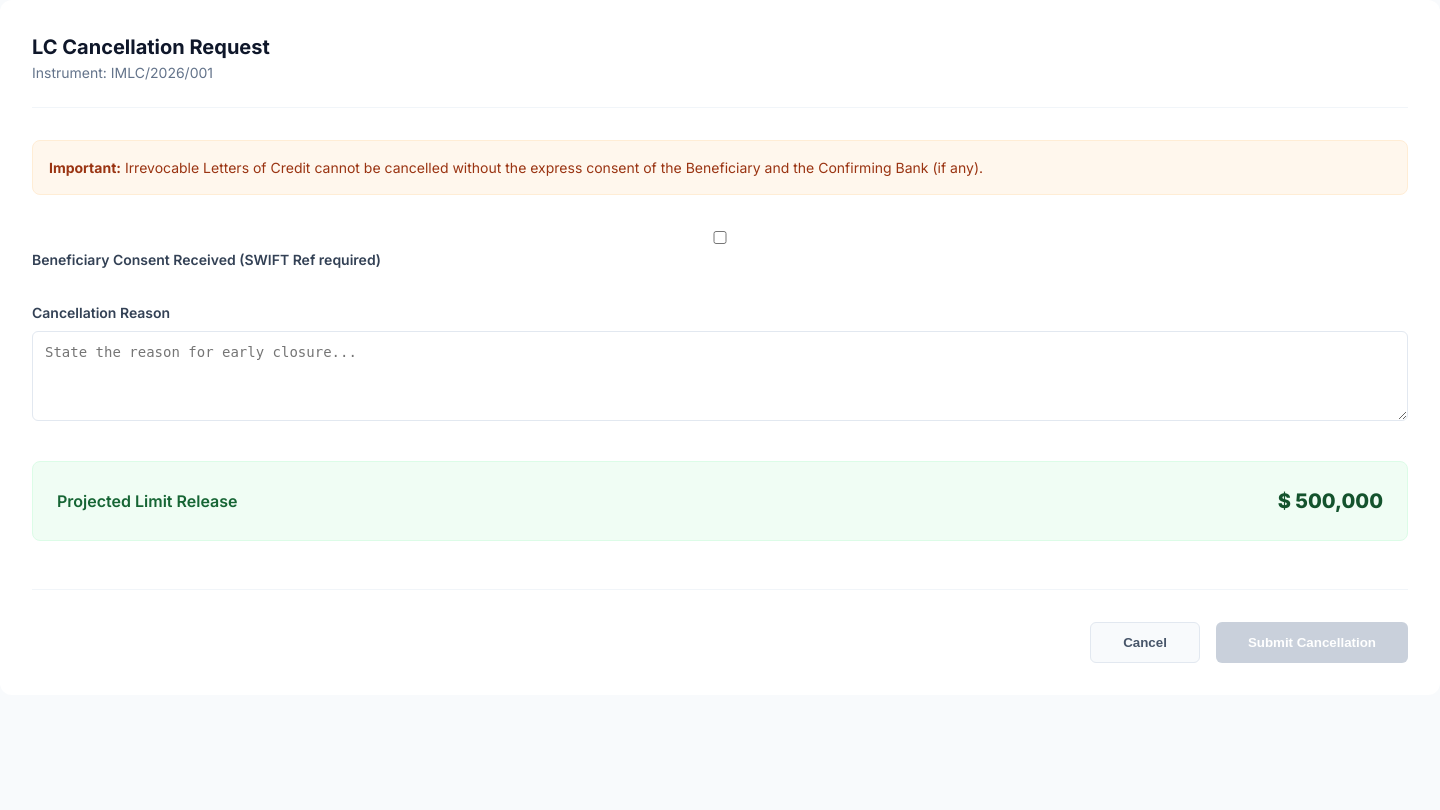
CancellationRequest (REQ-IMP-PRC-06) › Disables submit button until consent is confirmed
Expected: the button "Submit Cancellation" is disabled, [1216,622,1408,663]
Click the checkbox labelled "Beneficiary Consent Received (SWIFT Ref required)": (720, 238) [32,231,1408,244]
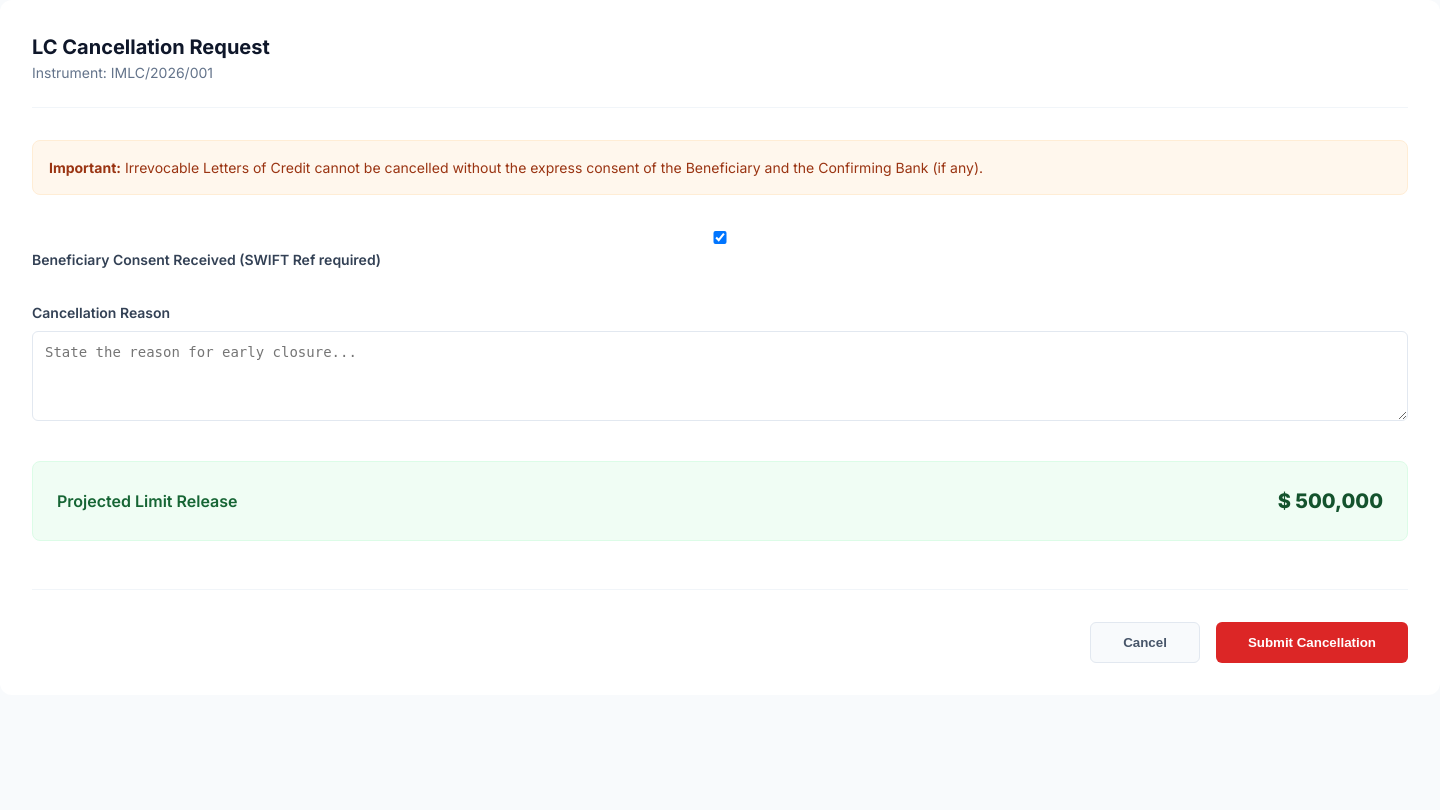
Now the button "Submit Cancellation" is enabled, box [1216,622,1408,663]
